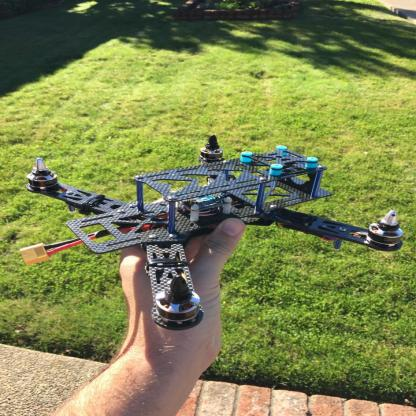drone: (18, 136, 407, 331)
